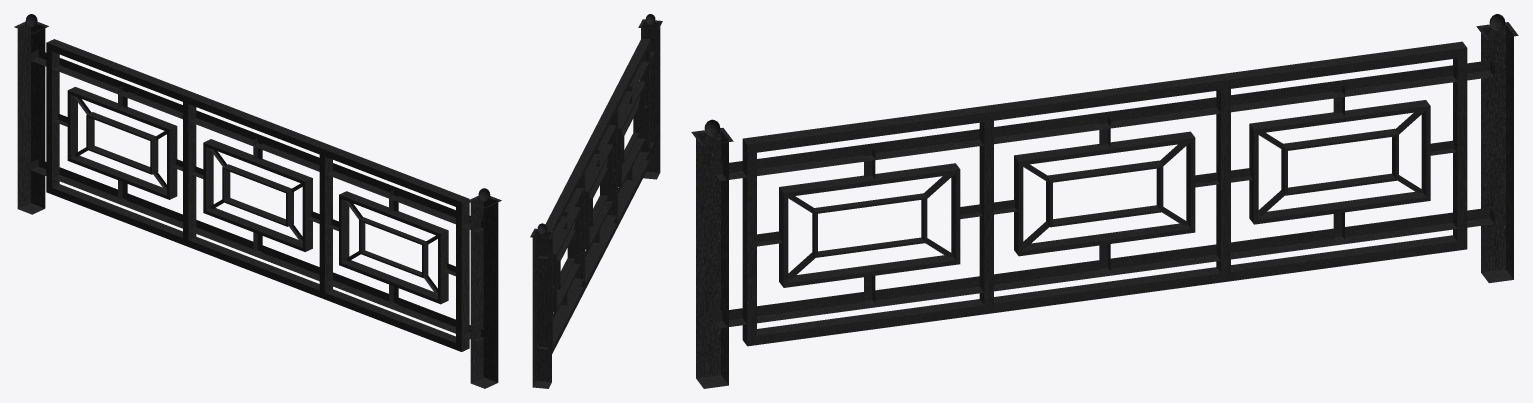
Rendered from fence.glb.
The picture shows the model from 3 angles, left to right: view 1: azimuth 30°, elevation 25°; view 2: azimuth 150°, elevation 25°; view 3: azimuth 270°, elevation 25°; orthographic projection. The views are drawn at different scales.
Visible parts, largest first — view 1: Куб.016; view 2: Куб.016; view 3: Куб.016.
Boxes of the visible parts, box(x1,y1,x2,y2) form: Куб.016: box(14, 14, 501, 388); Куб.016: box(530, 14, 662, 388); Куб.016: box(691, 14, 1518, 388).
Size of the model in its own units: 1.19 by 1.17 by 3.37.
Materials: 1 (1 with a texture image).
